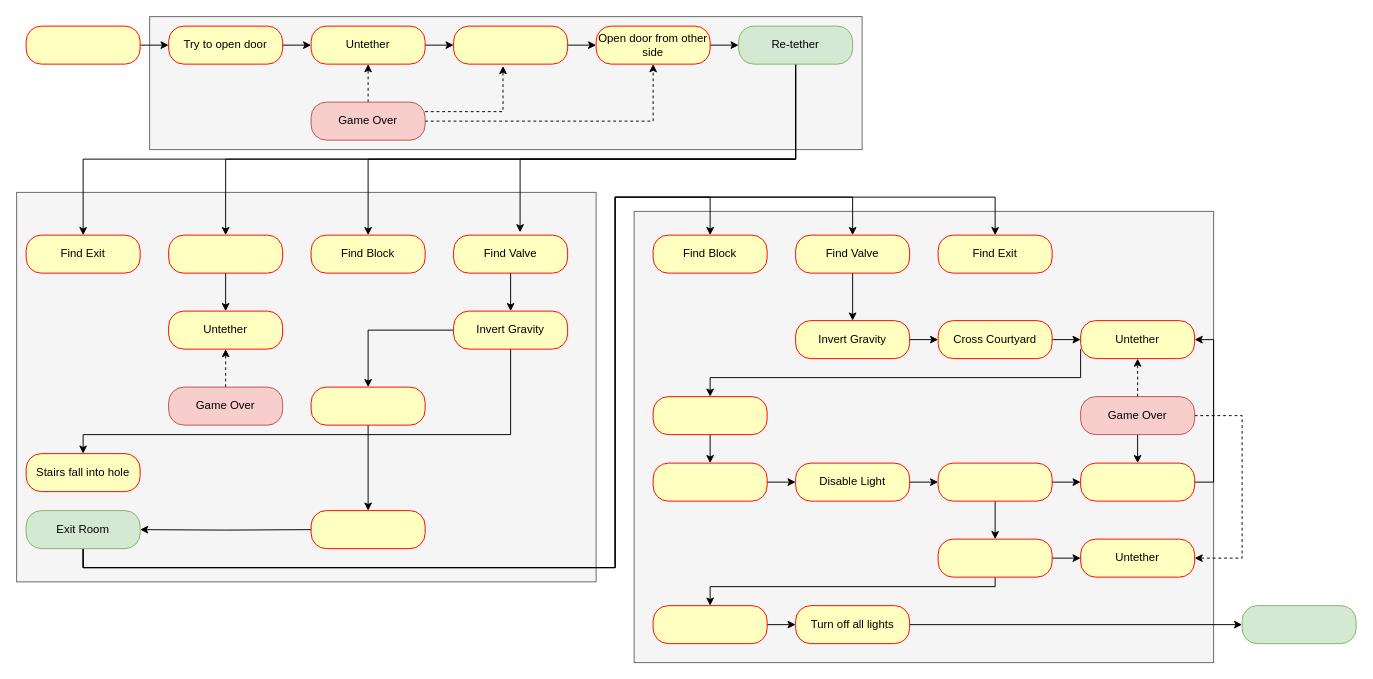
This 1373x679 diagram has some shape labels left out. The centre of each missing label's shape, as x and y in pixels:
"Awaken" belongs at (x=82, y=44).
"Block falls out of hole" belongs at (x=367, y=405).
"Cross Couryard" belongs at (x=994, y=481).
"Cross Light" belongs at (x=1137, y=481).
"Escape Tomb" belongs at (x=1298, y=624).
"Find Light" belongs at (x=225, y=253).
"Move block across courtyard" belongs at (x=709, y=415).
"Move Block into place" belongs at (x=367, y=529).
"Place companion on switch by door" belongs at (x=994, y=557).
"Press Switch" belongs at (x=709, y=481).
"Press switch with dog" belongs at (x=709, y=624).
"Use dog to go through hole" belongs at (x=510, y=44).
